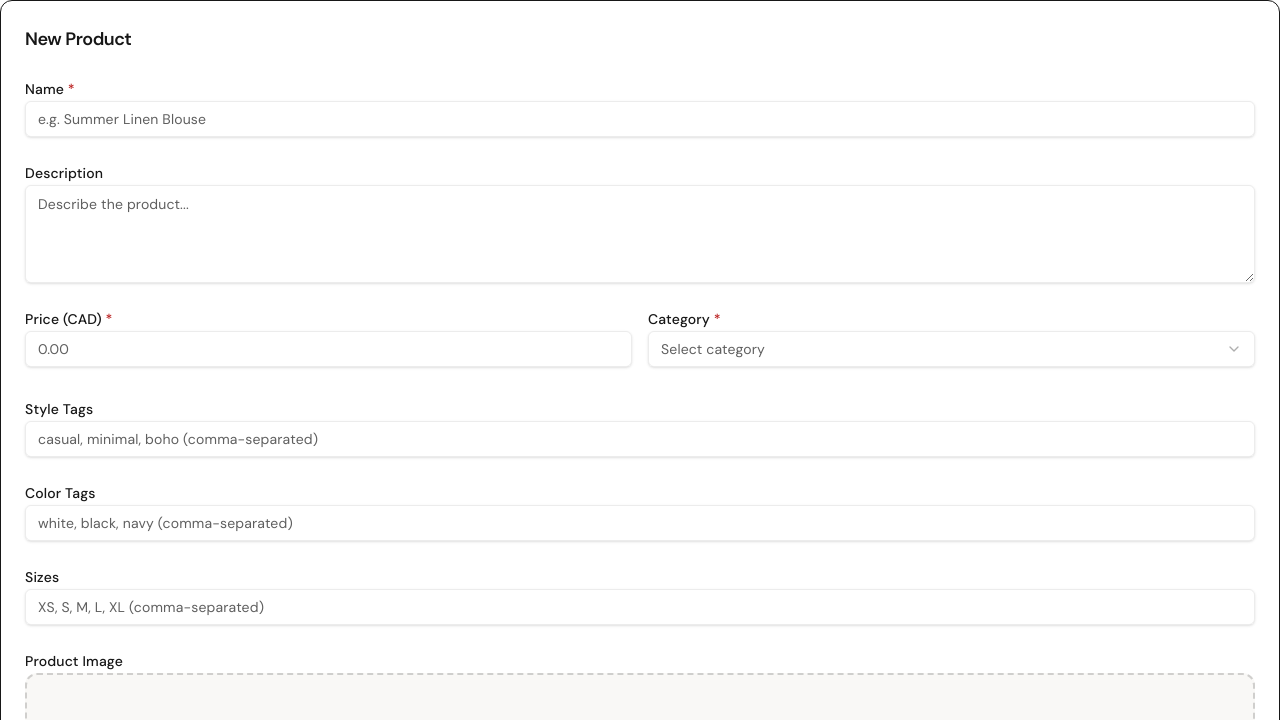
ProductForm size chart › renders one measurement row per entered size
Expected: the element "size chart" is not shown
Type "S, M" into the field with placeholder "XS, S, M, L, XL (comma-separated)".
click(640, 607); type("S, M")  # box [25, 589, 1255, 625]
(page scrolled)
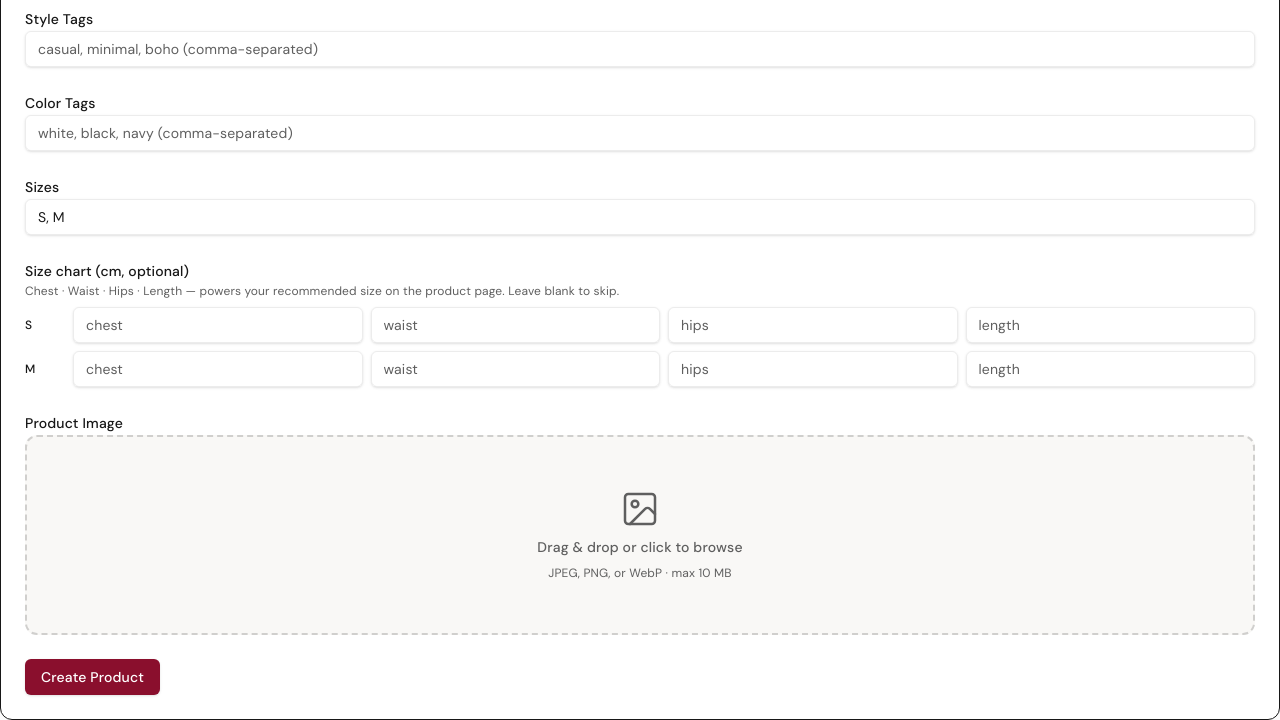
Expected: the number field named "S chest cm" is shown, [73, 307, 362, 343]
Expected: the number field named "M chest cm" is shown, [73, 351, 362, 387]
